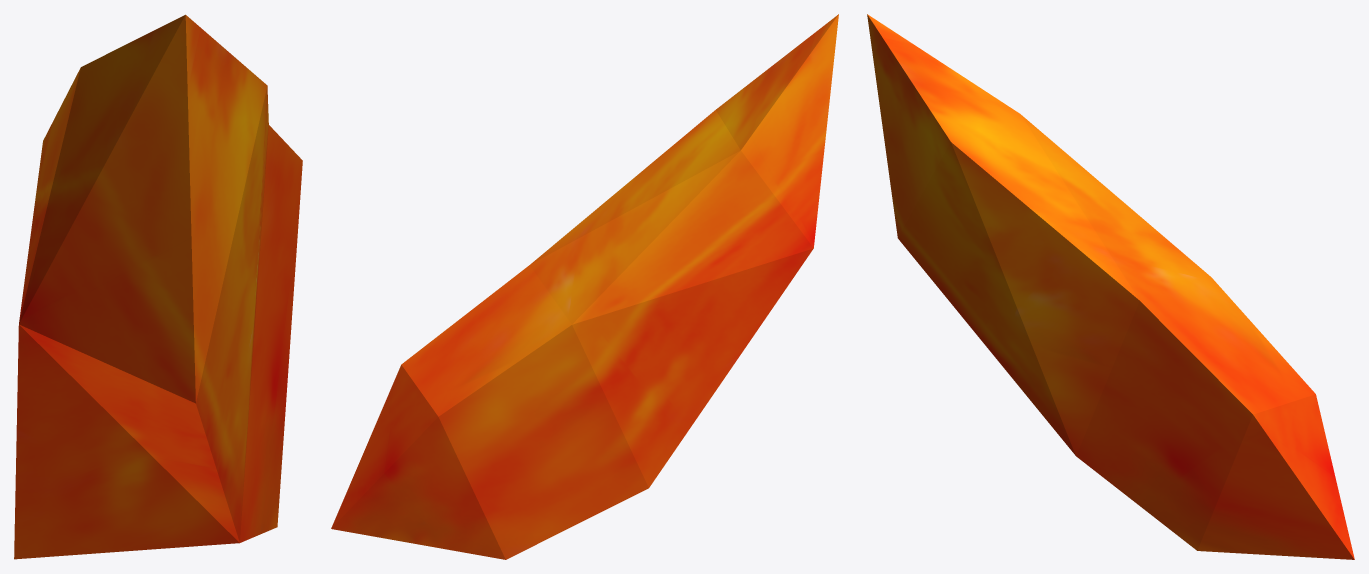
Rendered from Island_2_Tree_1_Leaf_5.gltf.
3 renders of one model, left to right at view 1: azimuth 30°, elevation 25°; view 2: azimuth 150°, elevation 25°; view 3: azimuth 270°, elevation 25°, orthographic. The views are drawn at different scales.
Visible parts, largest first — view 1: Island_2_Tree_1_Leaf_5; view 2: Island_2_Tree_1_Leaf_5; view 3: Island_2_Tree_1_Leaf_5.
Part boxes in pixels (x1,y1,x2,y2): Island_2_Tree_1_Leaf_5: [14, 14, 302, 559]; Island_2_Tree_1_Leaf_5: [331, 14, 838, 559]; Island_2_Tree_1_Leaf_5: [867, 14, 1354, 559].
Size of the model in its own units: 0.6369 by 0.8975 by 0.8879.
Materials: 1 (1 with a texture image).
